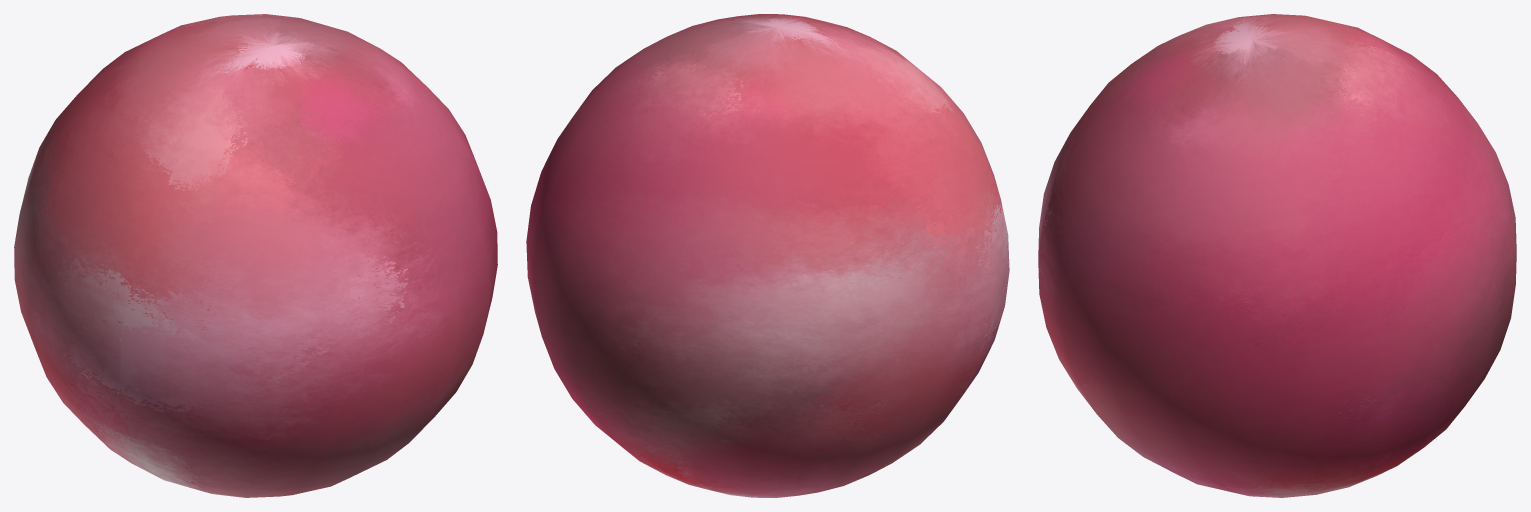
File: MenuScreen2-1-1.dae
3 renders of one model, left to right at view 1: azimuth 30°, elevation 25°; view 2: azimuth 150°, elevation 25°; view 3: azimuth 270°, elevation 25°, orthographic.
Visible parts, largest first — view 1: pSphere1; view 2: pSphere1; view 3: pSphere1.
Part boxes in pixels (x1=…): pSphere1: x1=14, y1=14, x2=497, y2=497; pSphere1: x1=526, y1=14, x2=1009, y2=497; pSphere1: x1=1038, y1=14, x2=1516, y2=497.
Bounding box in the file's own units: 878 × 886 × 877.
1 material, 1 textured.
